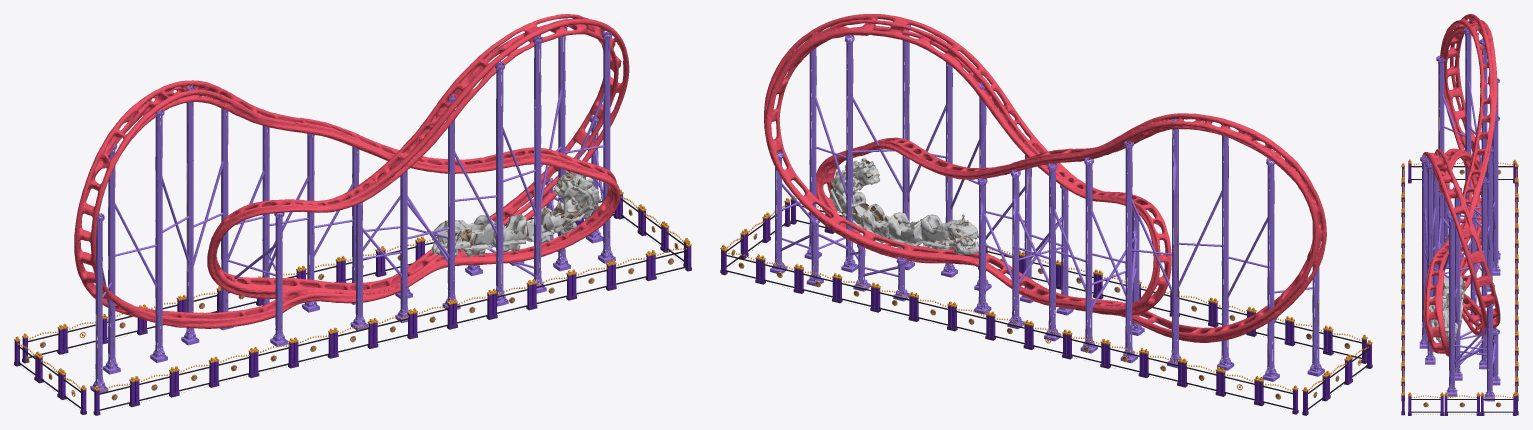
The model's file is Coaster_Fractured.fbx.
3 renders of one model, left to right at view 1: azimuth 30°, elevation 25°; view 2: azimuth 150°, elevation 25°; view 3: azimuth 270°, elevation 25°, orthographic. The views are drawn at different scales.
Visible parts, largest first — view 1: Coaster_Frag_07, Coaster_Frag_14, Coaster_Frag_17, Coaster_Frag_01, Coaster_Frag_02, Coaster_Frag_03, Coaster_Frag_10, Coaster_Frag_11, Coaster_Frag_09, Coaster_Frag_04, Coaster_Frag_26, Coaster_Frag_12 (+15 smaller); view 2: Coaster_Frag_07, Coaster_Frag_14, Coaster_Frag_17, Coaster_Frag_01, Coaster_Frag_09, Coaster_Frag_03, Coaster_Frag_02, Coaster_Frag_25, Coaster_Frag_06, Coaster_Frag_11, Coaster_Frag_04, Coaster_Frag_10 (+14 smaller); view 3: Coaster_Frag_07, Coaster_Frag_01, Coaster_Frag_10, Coaster_Frag_12, Coaster_Frag_00, Coaster_Frag_16, Coaster_Frag_23, Coaster_Frag_14, Coaster_Frag_25, Coaster_Frag_17, Coaster_Frag_03, Coaster_Frag_26 (+15 smaller).
Boxes of the visible parts, <box> form: Coaster_Frag_07: <box>513,148,637,284</box>; Coaster_Frag_14: <box>188,215,327,346</box>; Coaster_Frag_17: <box>409,188,537,319</box>; Coaster_Frag_01: <box>434,87,592,224</box>; Coaster_Frag_02: <box>334,102,460,228</box>; Coaster_Frag_03: <box>438,17,558,122</box>; Coaster_Frag_10: <box>138,80,259,165</box>; Coaster_Frag_11: <box>203,149,340,265</box>; Coaster_Frag_09: <box>287,245,412,330</box>; Coaster_Frag_04: <box>58,262,188,374</box>; Coaster_Frag_26: <box>113,155,203,273</box>; Coaster_Frag_12: <box>565,46,629,158</box>; Coaster_Frag_07: <box>775,150,907,286</box>; Coaster_Frag_14: <box>1042,251,1183,368</box>; Coaster_Frag_17: <box>888,179,1012,291</box>; Coaster_Frag_01: <box>833,79,977,203</box>; Coaster_Frag_09: <box>941,262,1073,351</box>; Coaster_Frag_03: <box>870,14,998,108</box>; Coaster_Frag_02: <box>961,86,1087,213</box>; Coaster_Frag_25: <box>959,173,1071,291</box>; Coaster_Frag_06: <box>800,231,943,323</box>; Coaster_Frag_11: <box>1080,187,1171,273</box>; Coaster_Frag_04: <box>1177,273,1319,399</box>; Coaster_Frag_10: <box>1103,113,1236,194</box>; Coaster_Frag_07: <box>1401,295,1517,396</box>; Coaster_Frag_01: <box>1422,202,1468,300</box>; Coaster_Frag_10: <box>1462,16,1499,118</box>; Coaster_Frag_12: <box>1449,240,1500,337</box>; Coaster_Frag_00: <box>1468,97,1499,192</box>; Coaster_Frag_16: <box>1436,49,1466,134</box>; Coaster_Frag_23: <box>1434,166,1478,252</box>; Coaster_Frag_14: <box>1444,177,1518,278</box>; Coaster_Frag_25: <box>1438,188,1493,276</box>; Coaster_Frag_17: <box>1401,236,1480,342</box>; Coaster_Frag_03: <box>1420,149,1453,210</box>; Coaster_Frag_26: <box>1465,65,1487,181</box>.
Bounding box in the file's own units: 5136 × 2132 × 1086.
